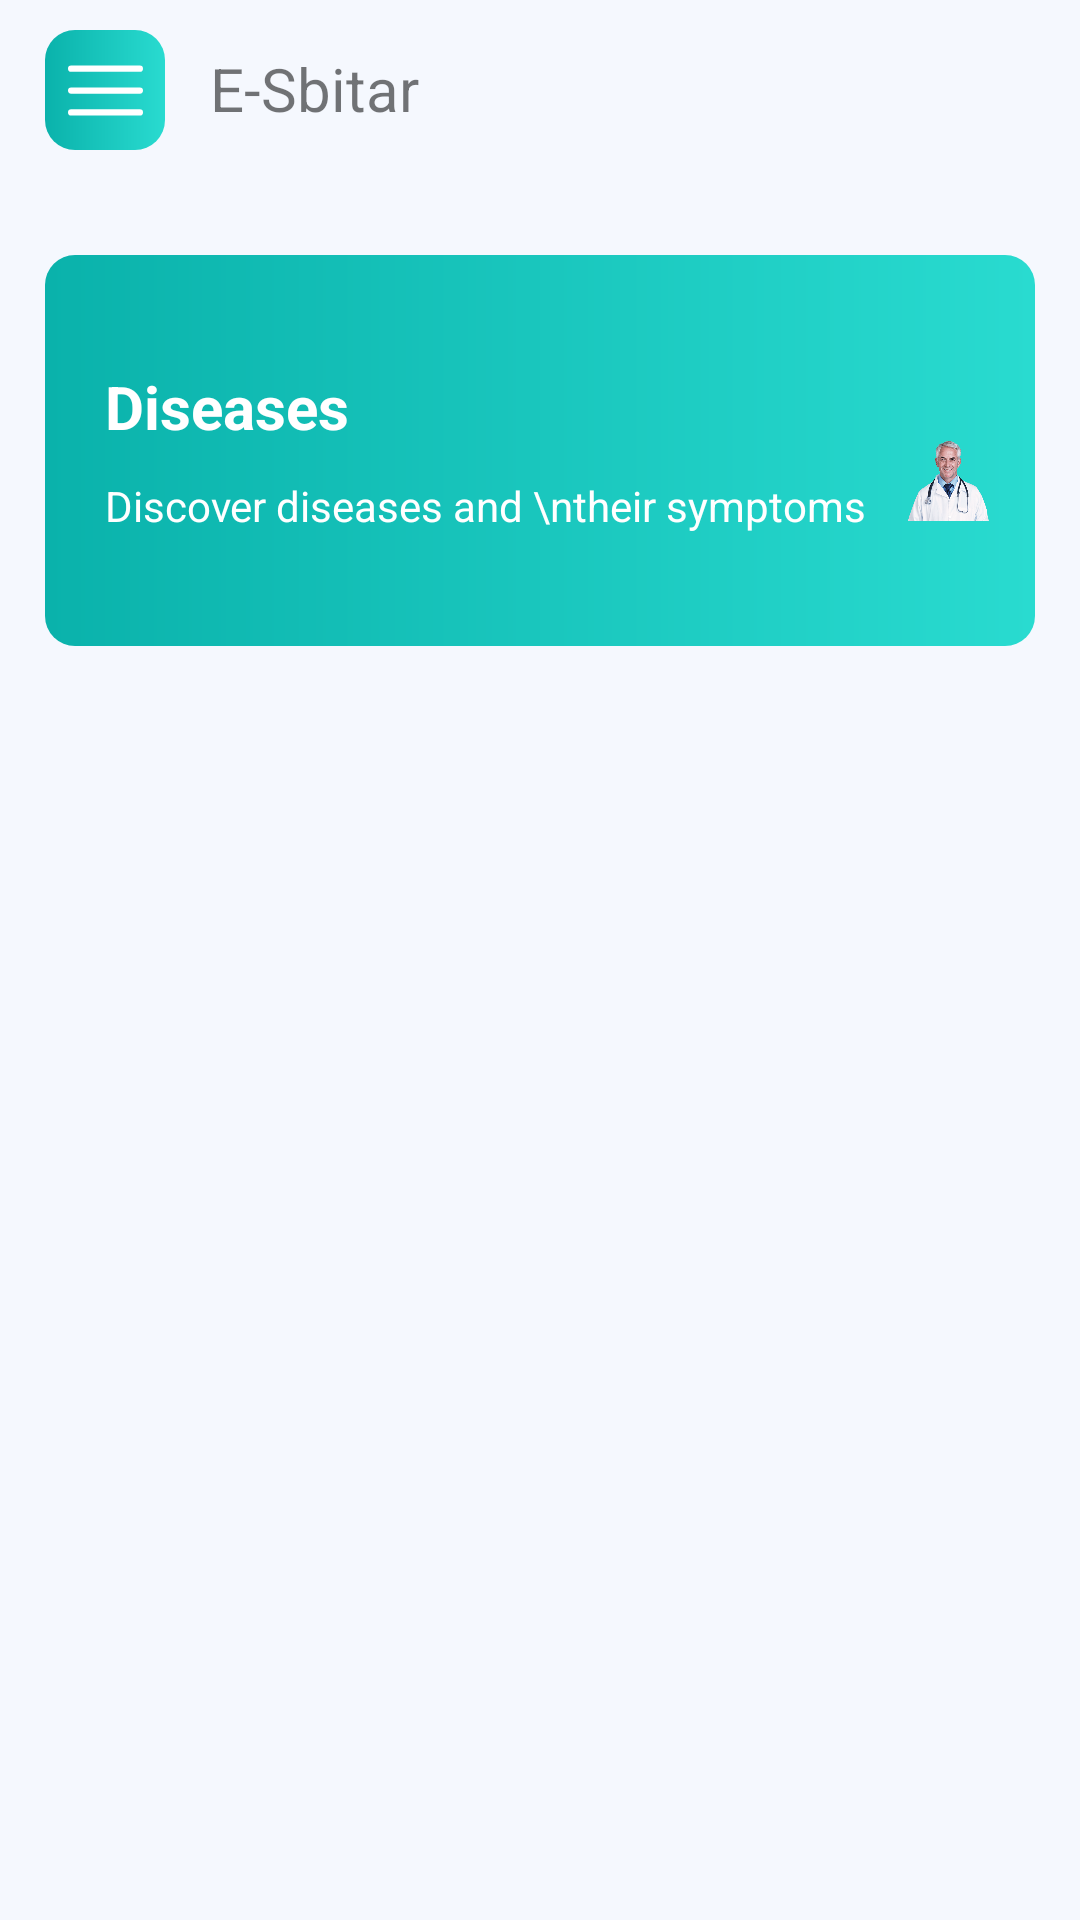

Locate icon controls on the screen. Image size 1080px x 1920px, boxes as detection(x1, y1, x2, y2).
burger: detection(45, 30, 165, 150)
